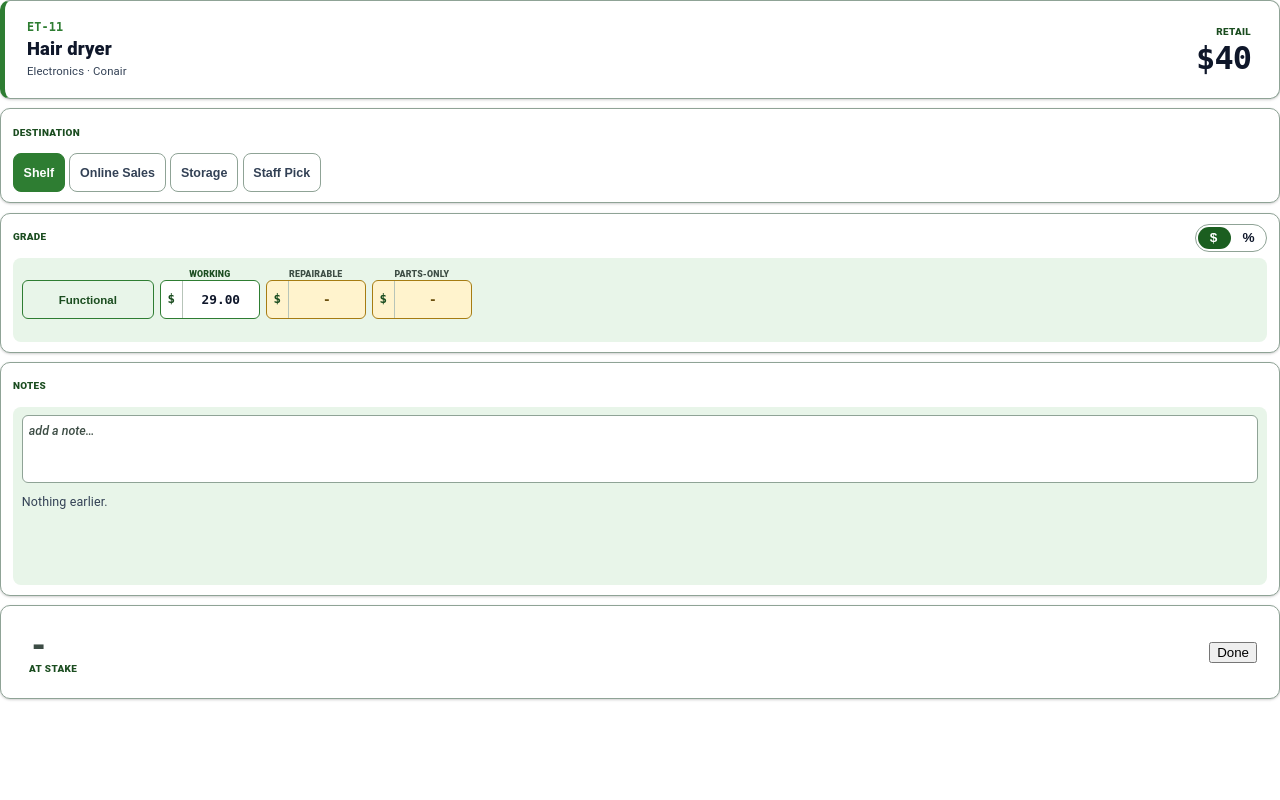
Test case: RestorationQueueCard form layout › toggles grade cells between dollars and percent of retail
Expected: the field named "Working price" holds "29.00", [183,281,259,318]
Click the button named "Price as dollars".
click(1214, 238)  # box [1196,225,1231,251]
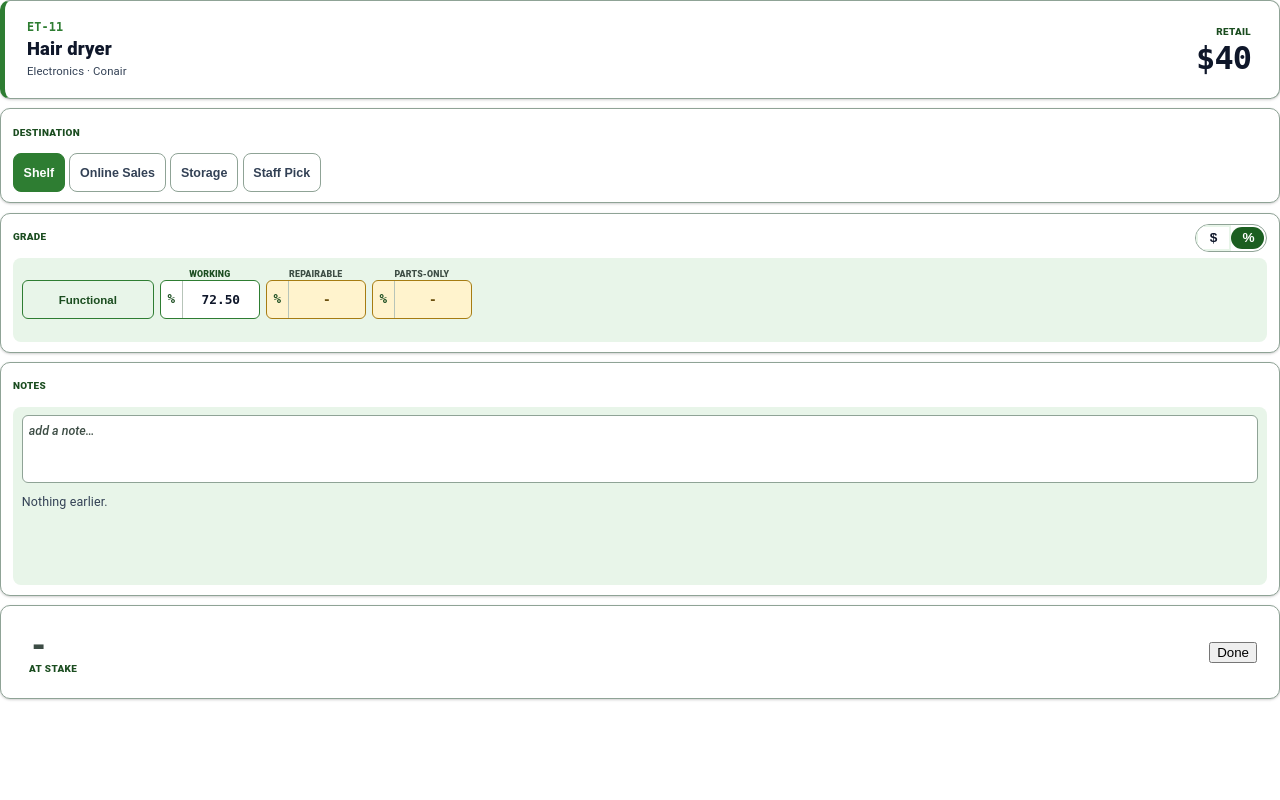
Now the field named "Working price" holds "72.50", box [183,281,259,318]
Click the button named "Price as dollars".
click(1214, 238)  # box [1196,225,1231,251]
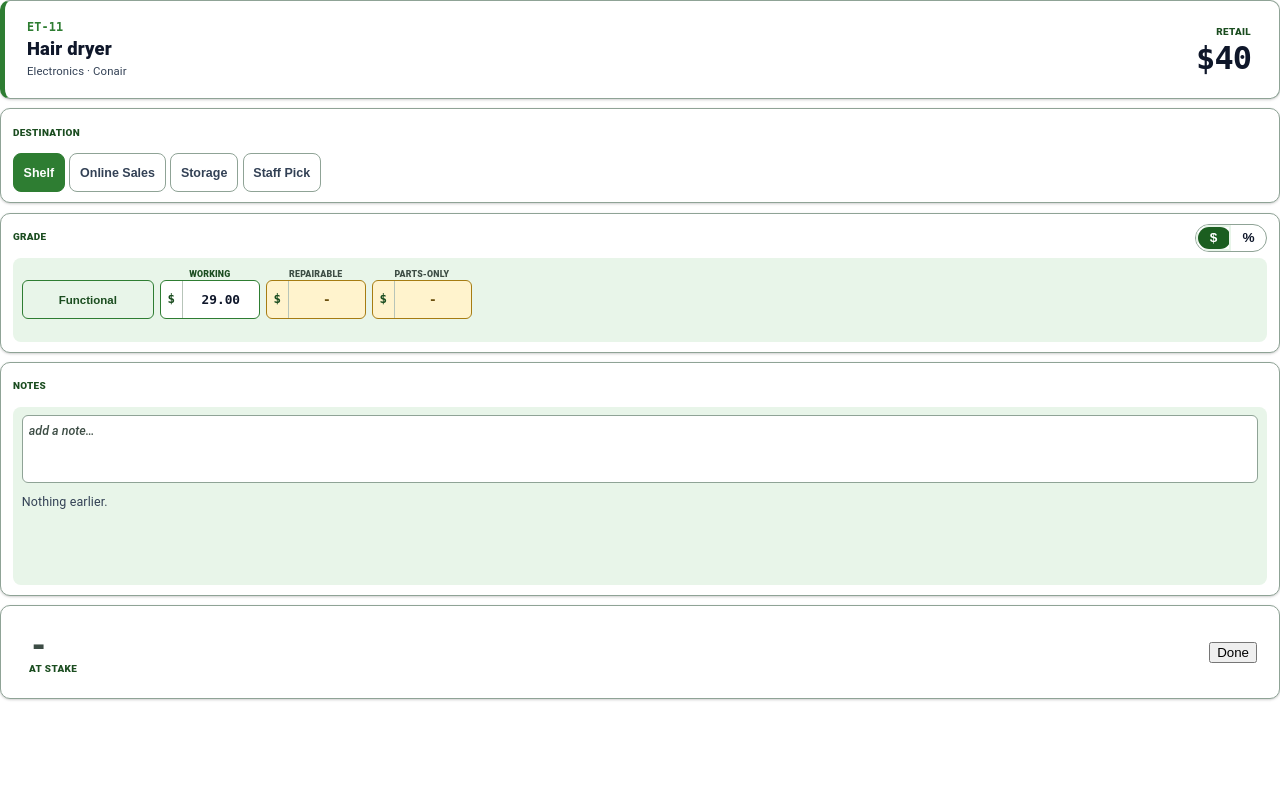
Now the field named "Working price" holds "29.00", box [183,281,259,318]
